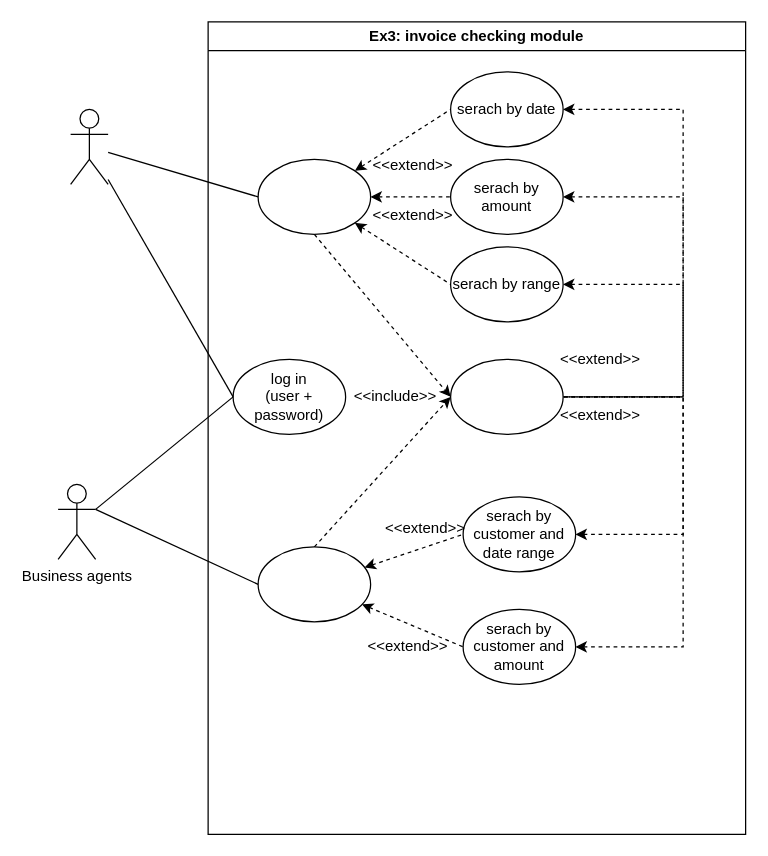
Image size: 768x856. Some labels were removed from this diagram. The shapes that lost their labels are listed below. From the top down, each one's box as (x1, y1, x2, y2) in pixels, then its label:
(69, 108, 108, 184): Customer
(257, 158, 371, 234): serach his own invoices
(449, 358, 563, 434): show results
(257, 546, 371, 622): serach customer invoices
